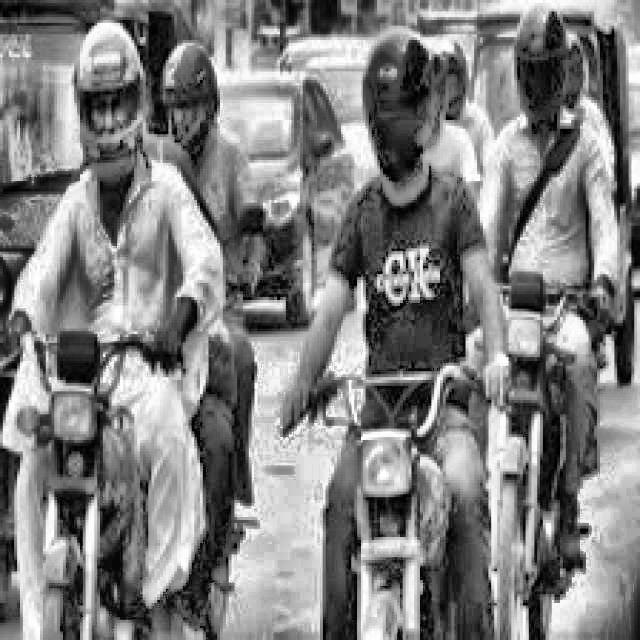motorcycle: (0, 250, 234, 640), (283, 341, 516, 640), (492, 220, 618, 640)
